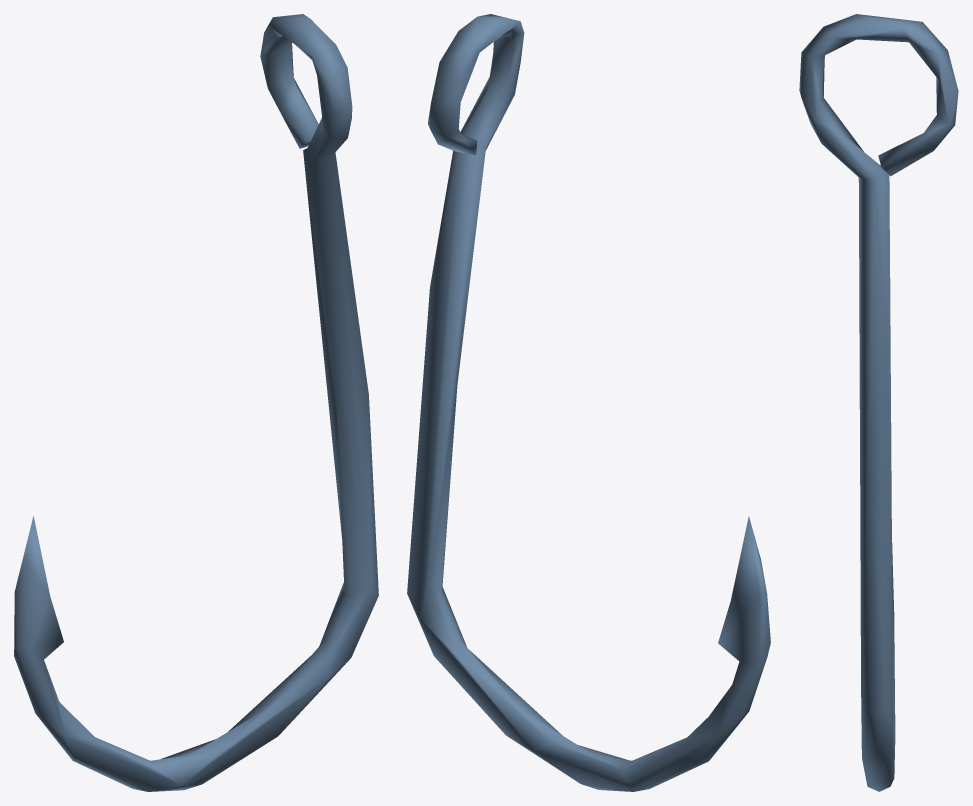
File: FishHook.fbx
The picture shows the model from 3 angles, left to right: view 1: azimuth 30°, elevation 25°; view 2: azimuth 150°, elevation 25°; view 3: azimuth 270°, elevation 25°; orthographic projection. The views are drawn at different scales.
Parts seen in each view (by area): view 1: Hook_Low; view 2: Hook_Low; view 3: Hook_Low.
Boxes of the visible parts, bbox=[...] form: Hook_Low: bbox=[14, 14, 378, 791]; Hook_Low: bbox=[407, 14, 770, 791]; Hook_Low: bbox=[799, 14, 958, 791].
Bounding box in the file's own units: 0.935 × 1.84 × 0.3202.
